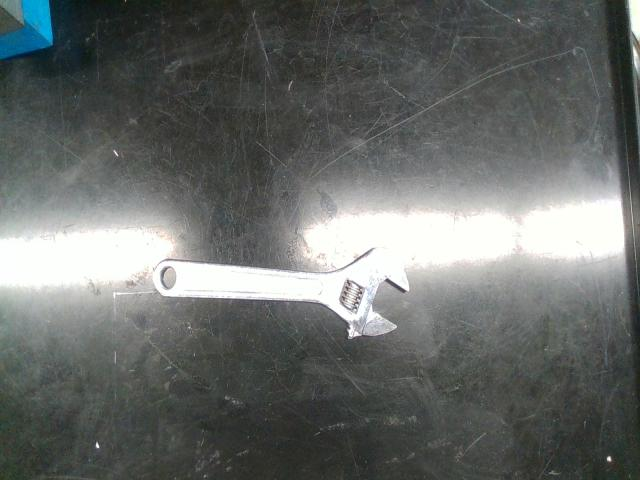Adjustable spanner: (152, 248, 409, 338)
